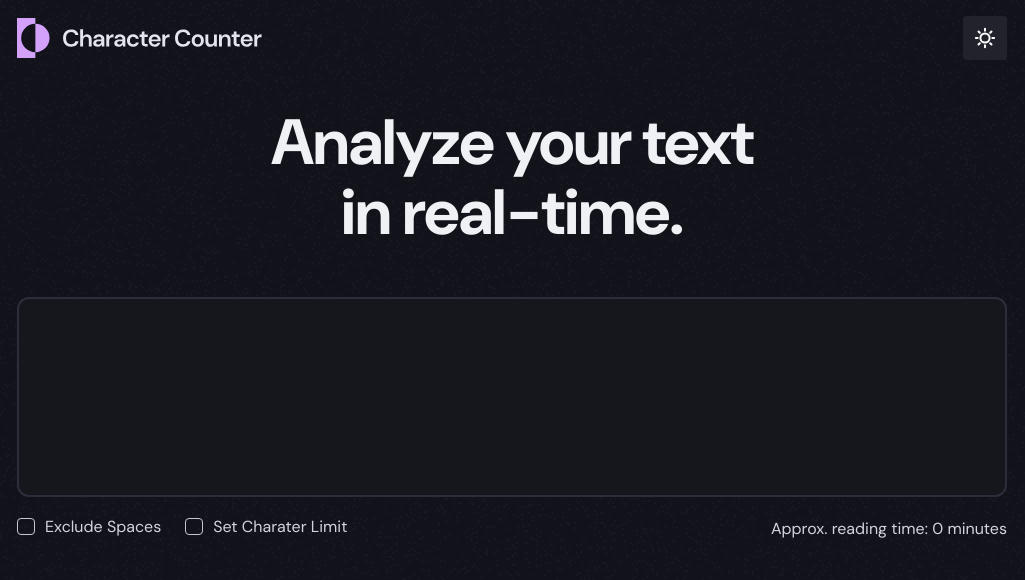
Test case: Character limit › should have exclude space checked off render the exceed error message when the limit is reached with the exceed error message showing -68 characters
Click the checkbox labelled "Set Charater Limit".
click(194, 527)  # box [185,518,203,536]
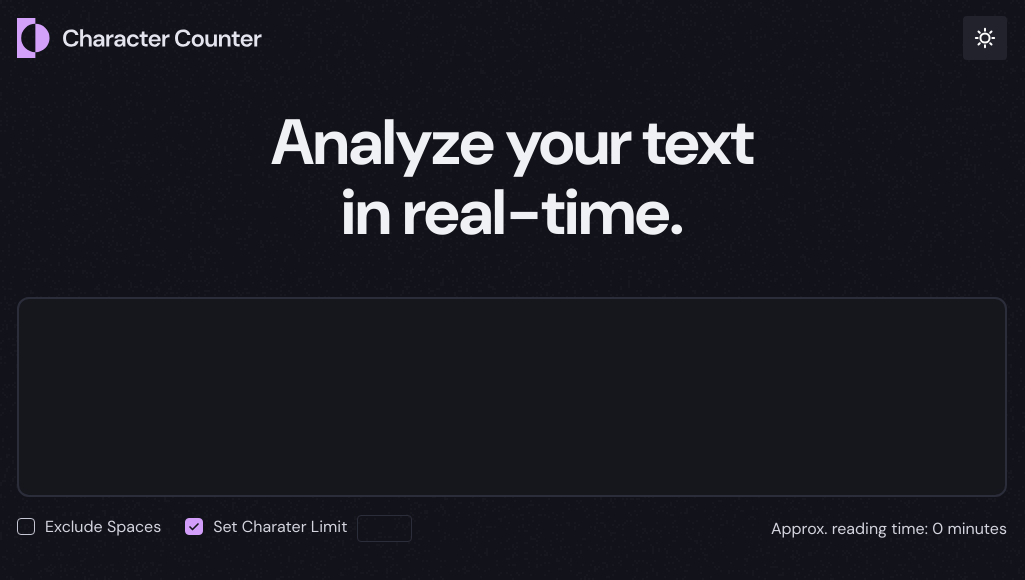
Type "10" into the field.
click(385, 529); type("10")  # box [357,515,412,543]
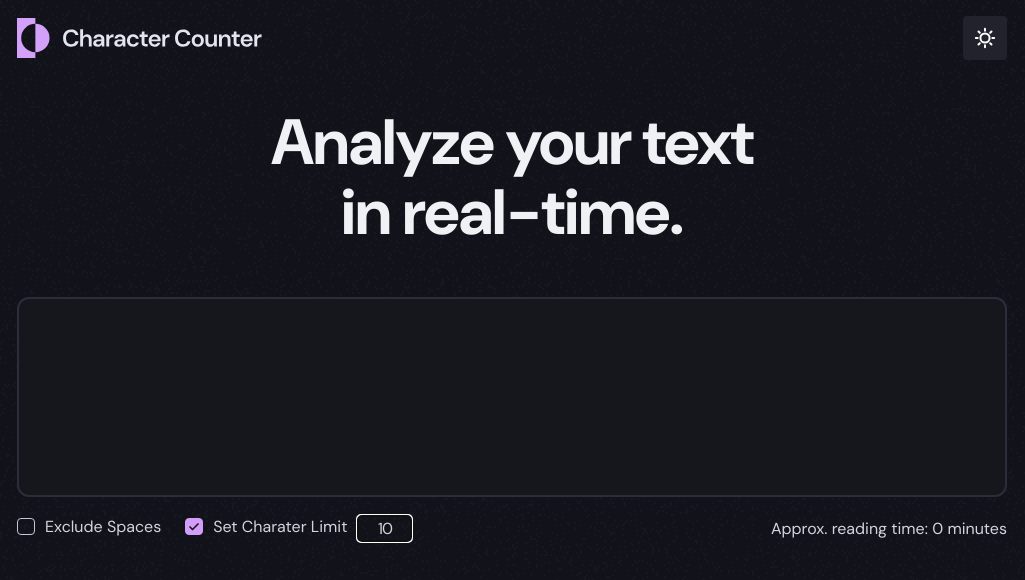
Type "Lorem ipsum dolor sit? Amet consectetur! Adipisicing elit. Odit, consequuntur." into the text box with test id "text-area-input".
click(512, 397); type("Lorem ipsum dolor sit? Amet consectetur! Adipisicing elit. Odit, consequuntur.")  # box [17,297,1007,497]
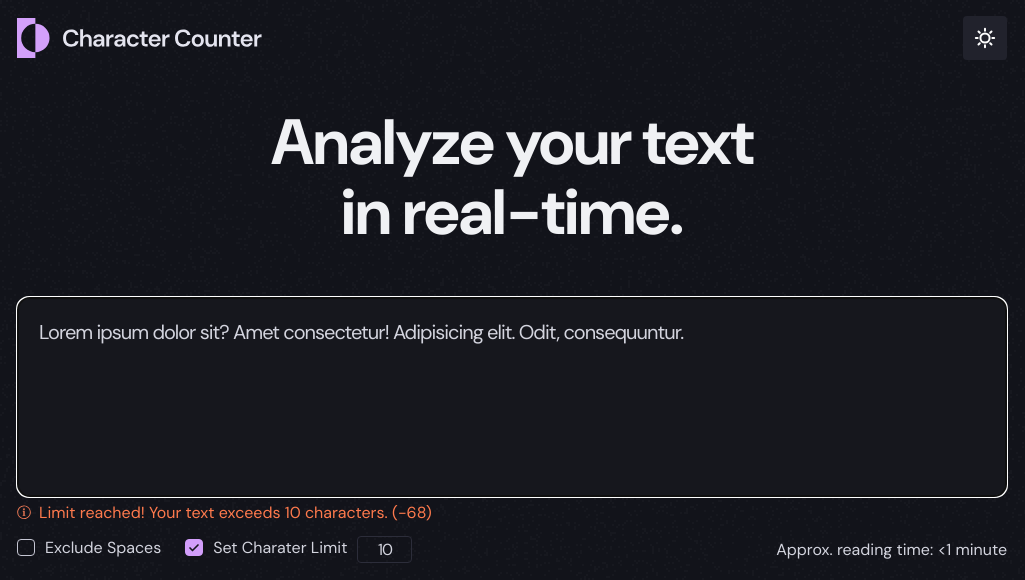
Result: the element with test id "exceed-error" reads "Limit reached! Your text exceeds 10 characters. (-68)" at [17,502,432,523]
